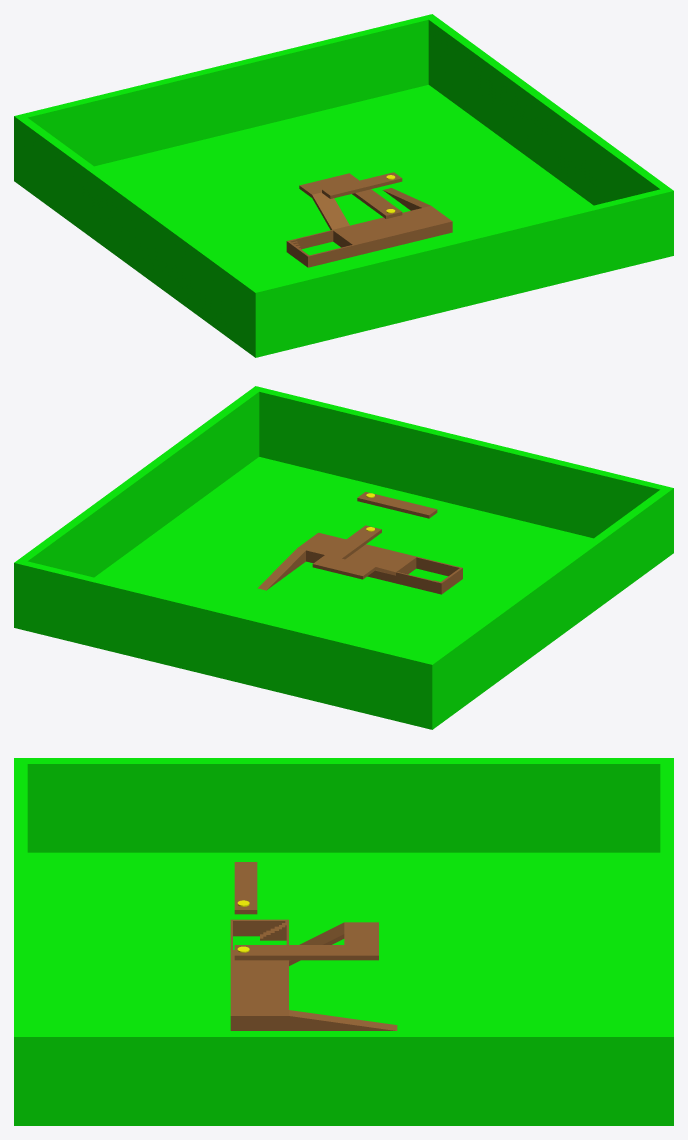
Rendered from building.dae.
3 renders of one model, top to bottom at view 1: azimuth 30°, elevation 25°; view 2: azimuth 150°, elevation 25°; view 3: azimuth 270°, elevation 25°, orthographic. The views are drawn at different scales.
Visible parts, largest first — view 1: group_0 (×2), SketchUp (×3); view 2: group_0 (×2), SketchUp (×3); view 3: group_0 (×2), SketchUp (×3).
Boxes of the visible parts, x1=… form: group_0 (×2): x1=14, y1=14, x2=673, y2=357; SketchUp (×3): x1=286, y1=172, x2=452, y2=267; group_0 (×2): x1=14, y1=386, x2=673, y2=729; SketchUp (×3): x1=257, y1=492, x2=462, y2=594; group_0 (×2): x1=14, y1=758, x2=673, y2=1125; SketchUp (×3): x1=230, y1=862, x2=397, y2=1030.
Bounding box in the file's own units: 37652 × 37652 × 5674.
